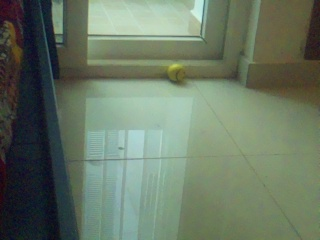ball: (167, 64, 185, 81)
